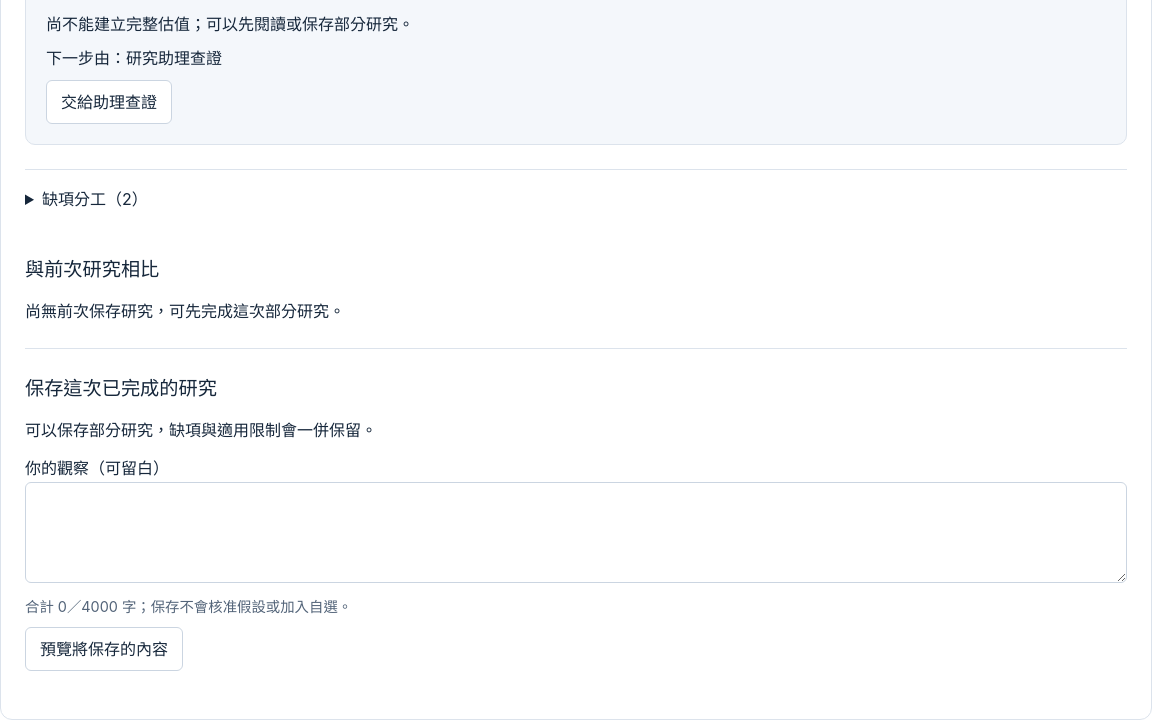
Test: discloses a failed reread after saving and prevents confirmation from stale guidance
(page scrolled)
Click the button "預覽將保存的內容": [104, 649] box [25,626,183,671]
(page scrolled)
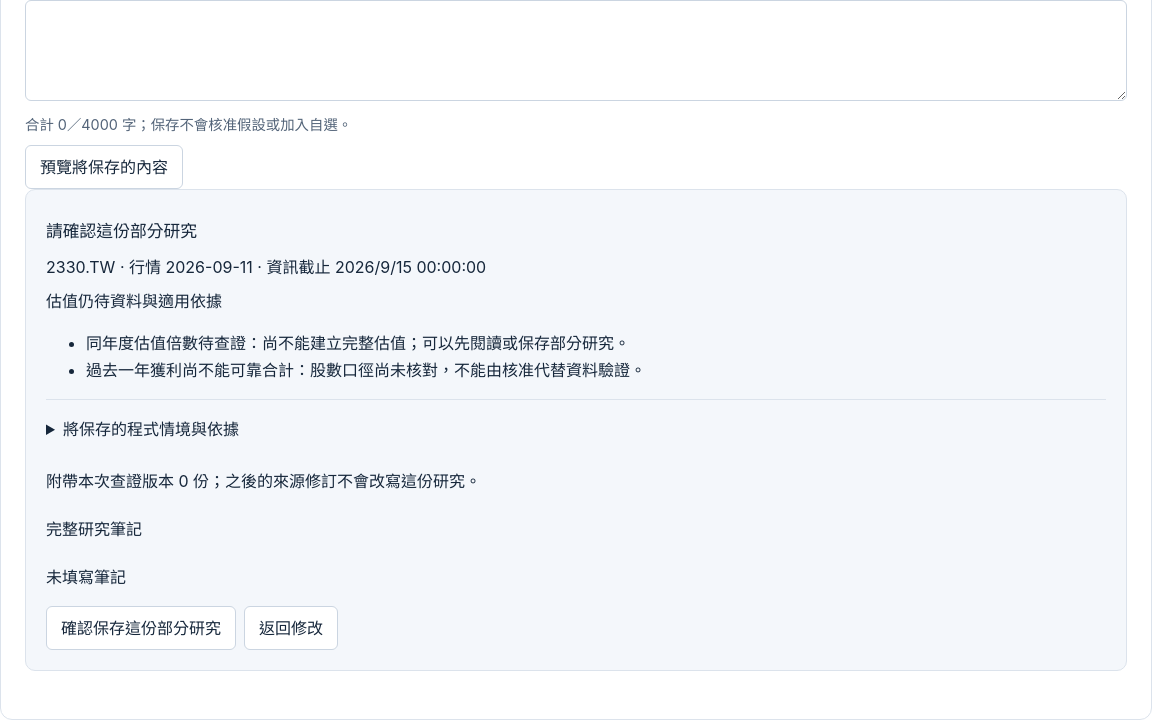
Click the button "確認保存這份部分研究": [141, 628] box [46,606,236,650]
(page scrolled)
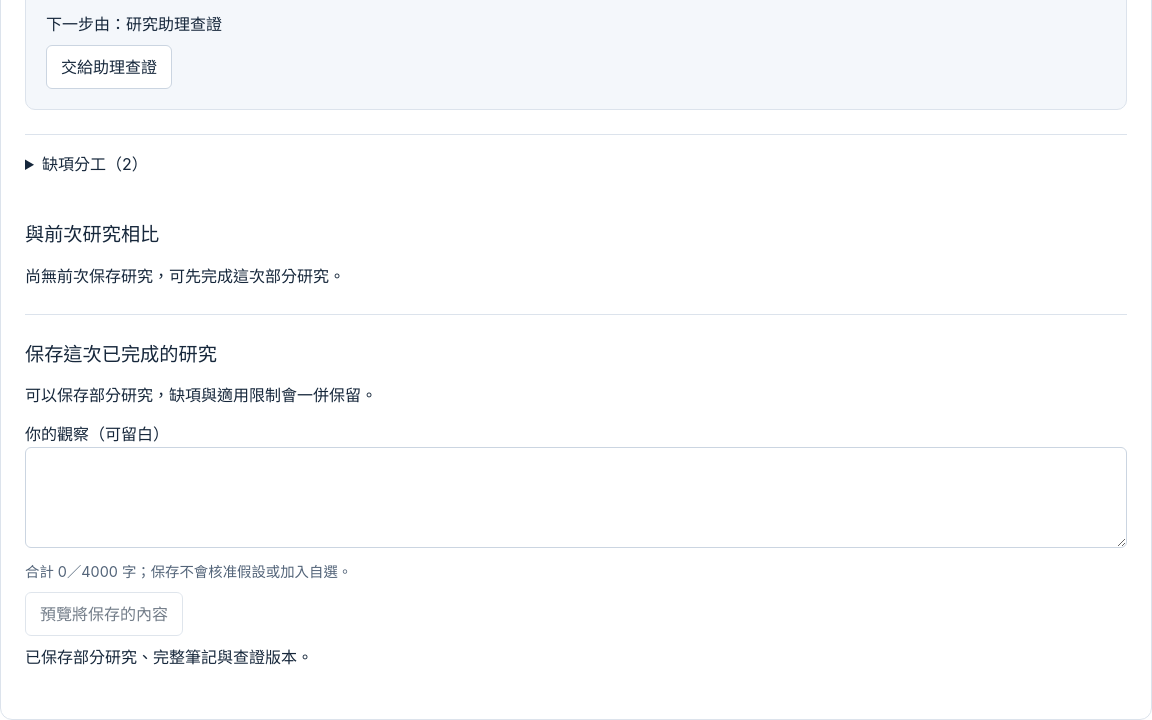
Result: the button "預覽將保存的內容" is disabled at [25,592,183,636]
